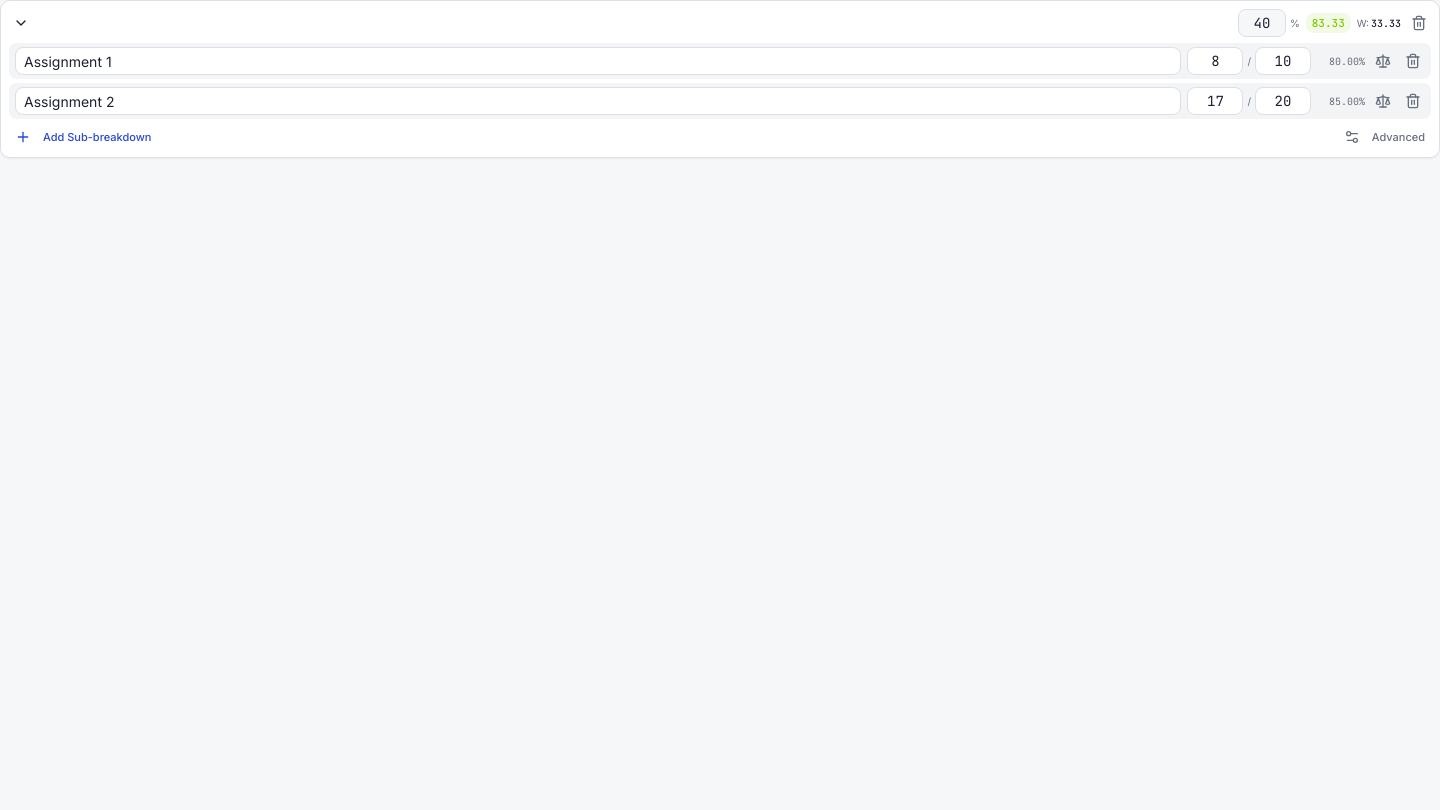
Test: BreakdownCard › falls back to a generic title for an unnamed breakdown
Click the button named "Delete breakdown": (1419, 23) [1407,11,1431,35]
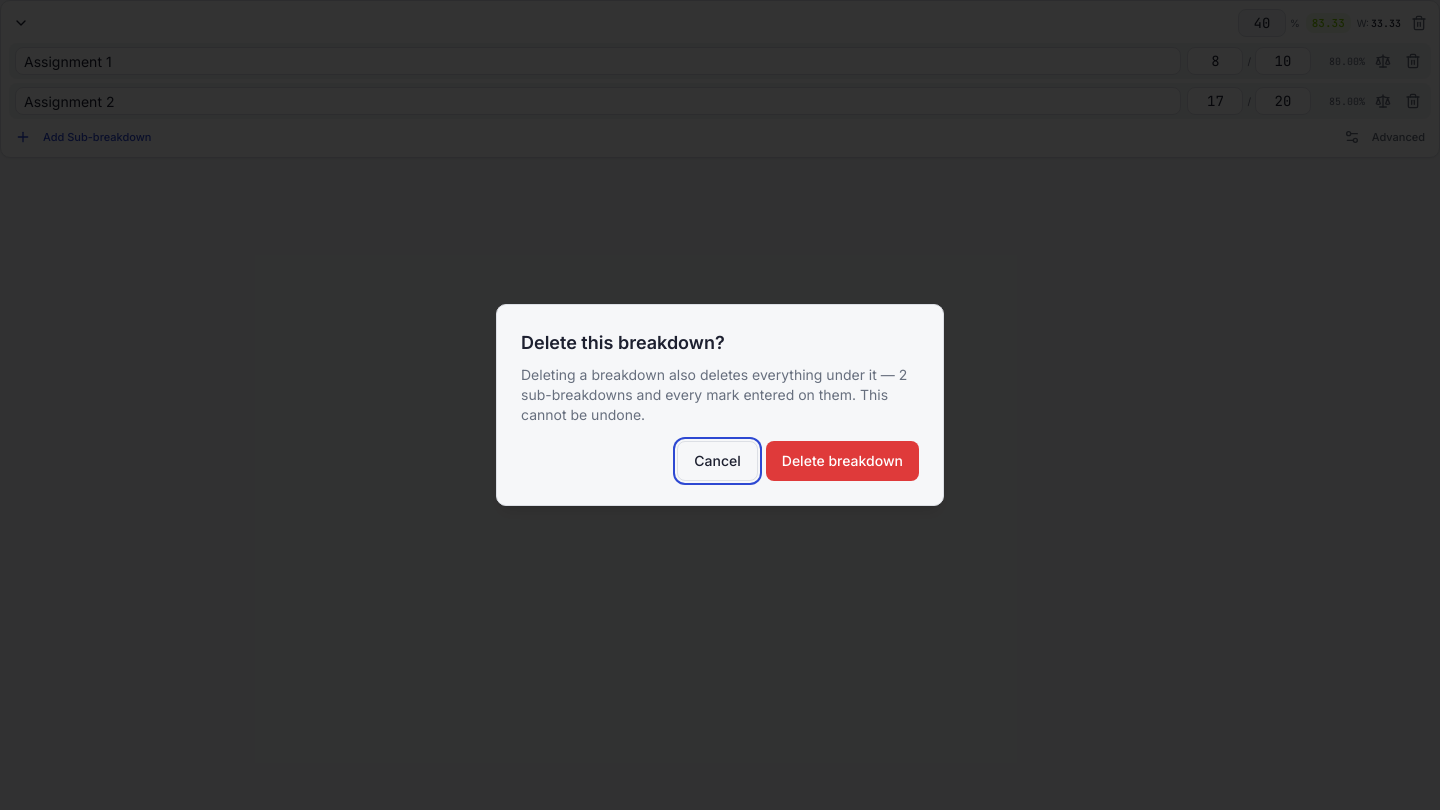
expect the heading "Delete this breakdown?" is shown: met, box [521,332,725,353]
